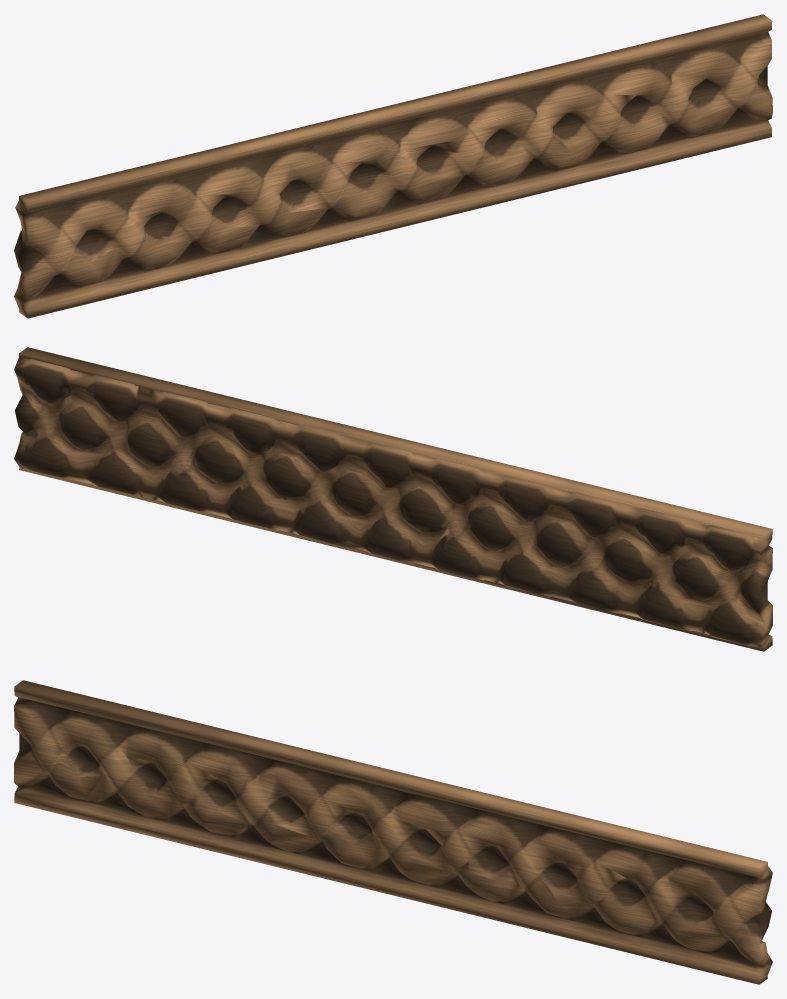
The model's file is carve_tau.glb.
3 views of the same model, one above another, from view 1: azimuth 30°, elevation 25°; view 2: azimuth 150°, elevation 25°; view 3: azimuth 330°, elevation 25° (orthographic).
Parts seen in each view (by area): view 1: relief; view 2: relief; view 3: relief.
Boxes of the visible parts, <box> form: relief: <box>14,14,772,318</box>; relief: <box>14,347,772,651</box>; relief: <box>14,680,772,984</box>.
Size of the model in its own units: 2.01 by 0.2988 by 0.0722.
Materials: 1 (1 with a texture image).
